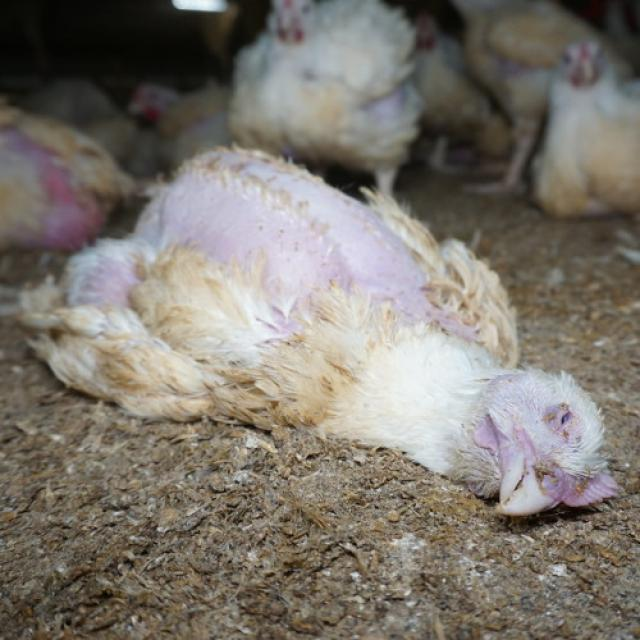Unhealthy: (46, 163, 626, 527)
